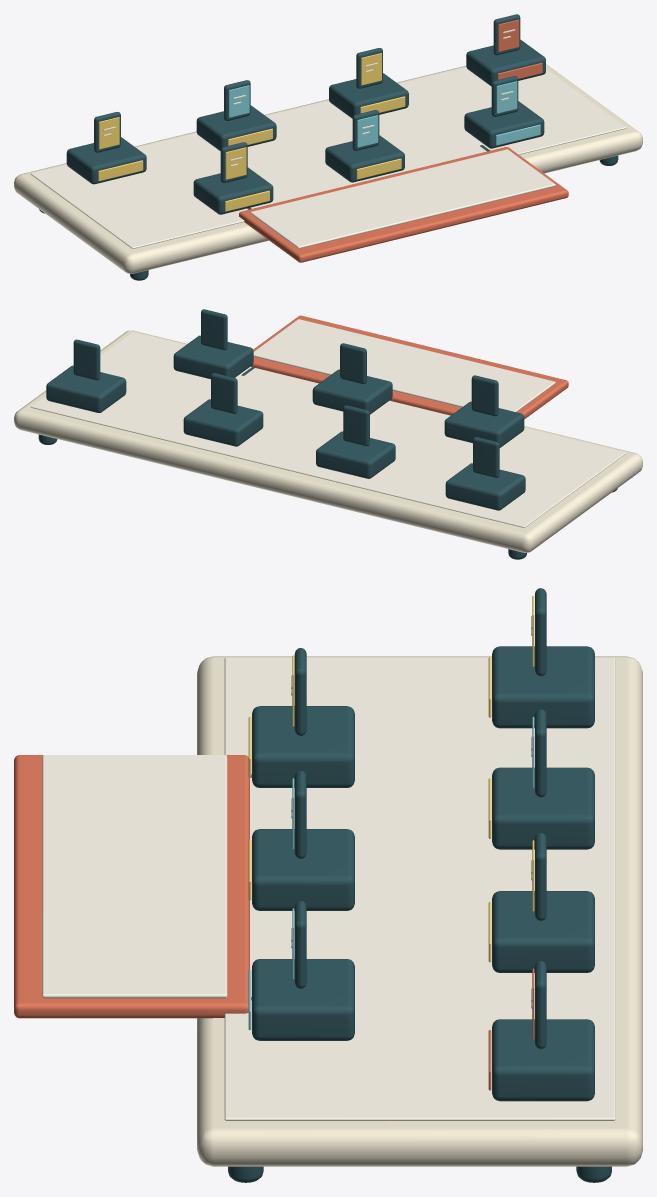
Rendered from resume-worktable.glb.
The picture shows the model from 3 angles, top to bottom: view 1: azimuth 30°, elevation 25°; view 2: azimuth 150°, elevation 25°; view 3: azimuth 270°, elevation 25°; orthographic projection. The views are drawn at different scales.
Parts seen in each view (by area): view 1: Desk inlay, Reveal pull-out tray paper, Workshop desk, Reveal pull-out tray body, Role 0 drawer, Role 5 drawer, Role 6 drawer, Role 2 drawer, Role 4 drawer, Role 1 drawer, Role 3 drawer, Role 0 device screen (+20 smaller); view 2: Desk inlay, Workshop desk, Reveal pull-out tray paper, Reveal pull-out tray body, Role 1 drawer, Role 3 drawer, Role 5 drawer, Role 4 drawer, Role 0 drawer, Role 2 drawer, Role 6 drawer, Role 6 device body (+6 smaller); view 3: Desk inlay, Reveal pull-out tray paper, Workshop desk, Reveal pull-out tray body, Role 1 drawer, Role 0 drawer, Role 2 drawer, Role 4 drawer, Role 3 drawer, Role 5 drawer, Role 6 drawer, Role 0 device body (+6 smaller).
Boxes of the visible parts, left/top/right/bottom form: Desk inlay: left=30, top=67, right=626, bottom=248; Reveal pull-out tray paper: left=250, top=149, right=555, bottom=248; Workshop desk: left=14, top=64, right=642, bottom=273; Reveal pull-out tray body: left=239, top=147, right=568, bottom=262; Role 0 drawer: left=464, top=101, right=544, bottom=148; Role 5 drawer: left=66, top=137, right=146, bottom=184; Role 6 drawer: left=193, top=167, right=273, bottom=214; Role 2 drawer: left=325, top=135, right=404, bottom=182; Role 4 drawer: left=196, top=105, right=276, bottom=150; Role 1 drawer: left=466, top=39, right=545, bottom=86; Role 3 drawer: left=329, top=73, right=408, bottom=118; Role 0 device screen: left=496, top=81, right=517, bottom=113; Desk inlay: left=30, top=332, right=626, bottom=527; Workshop desk: left=14, top=330, right=642, bottom=552; Reveal pull-out tray paper: left=253, top=319, right=555, bottom=412; Reveal pull-out tray body: left=250, top=315, right=568, bottom=419; Role 1 drawer: left=46, top=365, right=126, bottom=412; Role 3 drawer: left=183, top=399, right=263, bottom=446; Role 5 drawer: left=445, top=463, right=525, bottom=510; Role 4 drawer: left=316, top=431, right=395, bottom=478; Role 0 drawer: left=173, top=335, right=253, bottom=379; Role 2 drawer: left=312, top=369, right=392, bottom=414; Role 6 drawer: left=444, top=401, right=524, bottom=447; Role 6 device body: left=471, top=375, right=498, bottom=416; Desk inlay: left=224, top=657, right=615, bottom=1120; Reveal pull-out tray paper: left=42, top=755, right=227, bottom=998; Workshop desk: left=197, top=656, right=642, bottom=1166; Reveal pull-out tray body: left=14, top=755, right=249, bottom=1018; Role 1 drawer: left=492, top=1019, right=594, bottom=1101; Role 0 drawer: left=252, top=959, right=354, bottom=1040; Role 2 drawer: left=252, top=829, right=354, bottom=910; Role 4 drawer: left=492, top=767, right=594, bottom=849; Role 3 drawer: left=492, top=891, right=594, bottom=972; Role 5 drawer: left=492, top=646, right=594, bottom=728; Role 6 drawer: left=252, top=706, right=354, bottom=787; Role 0 device body: left=294, top=900, right=306, bottom=988.
Size of the model in its own units: 8.35 by 1.48 by 4.58.
